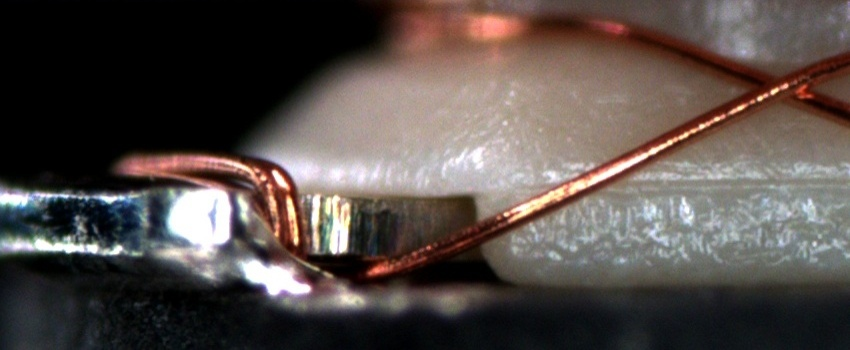CL: (730, 58, 827, 110)
DL: (516, 154, 850, 217)
TE: (106, 143, 312, 260)
